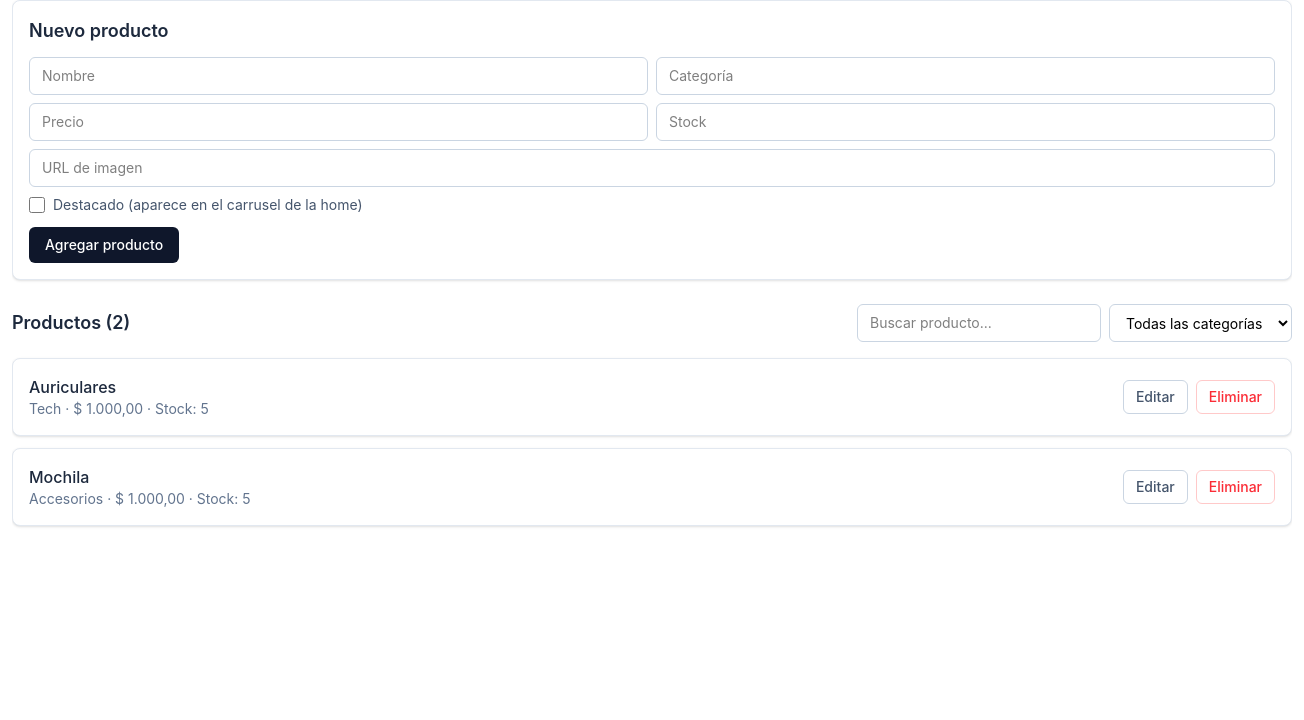
it: AdminProducts › filtra productos por nombre
The image size is (1304, 720).
Expected: the text "Auriculares" is shown, [29,377,116,397]
Type "moch" into the field with placeholder "Buscar producto..." at (979, 323), box [857,304,1101,342]
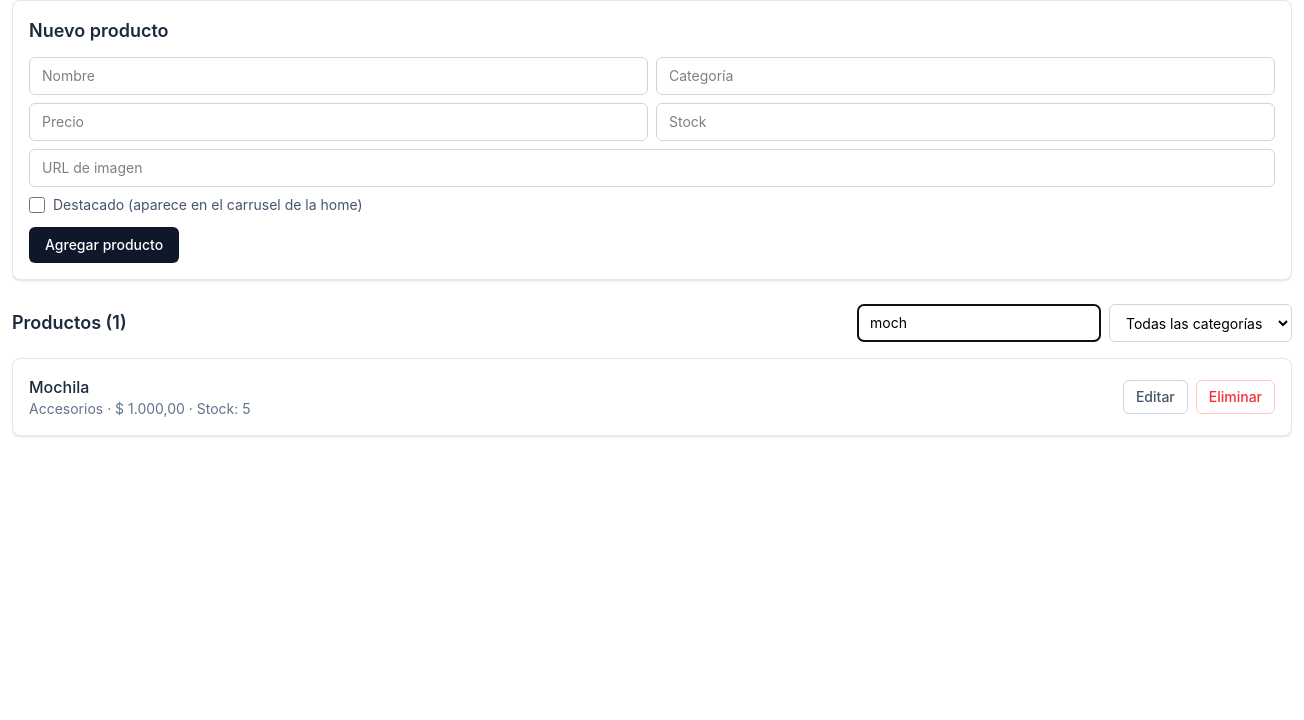
Expected: the text "Mochila" is shown, [29,377,89,397]
Result: the text "Auriculares" is gone
Result: the heading "Productos (1)" is shown at [12,309,127,337]
